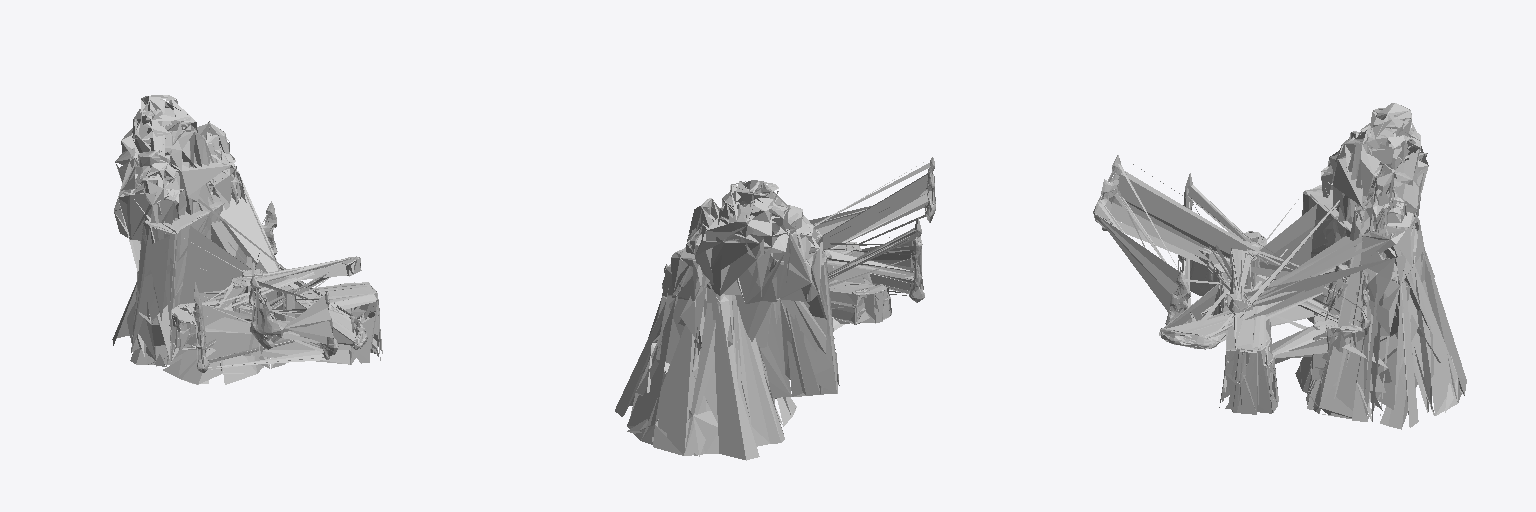
File: cellDesert_AshSink_Proxy-sharedassets3.assets-560.obj
The picture shows the model from 3 angles: view 1: azimuth 30°, elevation 25°; view 2: azimuth 150°, elevation 25°; view 3: azimuth 270°, elevation 25°; orthographic projection.
Parts seen in each view (by area): view 1: cellDesert_AshSink_Proxy_0, cellDesert_AshSink_Proxy_1, cellDesert_AshSink_Proxy_2; view 2: cellDesert_AshSink_Proxy_0, cellDesert_AshSink_Proxy_1, cellDesert_AshSink_Proxy_2; view 3: cellDesert_AshSink_Proxy_0, cellDesert_AshSink_Proxy_1, cellDesert_AshSink_Proxy_2.
Part boxes in pixels (x1,y1,x2,y2): cellDesert_AshSink_Proxy_0: (112, 95, 382, 384); cellDesert_AshSink_Proxy_1: (131, 153, 367, 370); cellDesert_AshSink_Proxy_2: (193, 203, 338, 372); cellDesert_AshSink_Proxy_0: (615, 157, 935, 460); cellDesert_AshSink_Proxy_1: (662, 162, 935, 396); cellDesert_AshSink_Proxy_2: (662, 158, 935, 302); cellDesert_AshSink_Proxy_0: (1093, 103, 1466, 429); cellDesert_AshSink_Proxy_1: (1094, 132, 1370, 349); cellDesert_AshSink_Proxy_2: (1093, 156, 1370, 334).
Size of the model in its own units: 84.27 by 96.01 by 126.